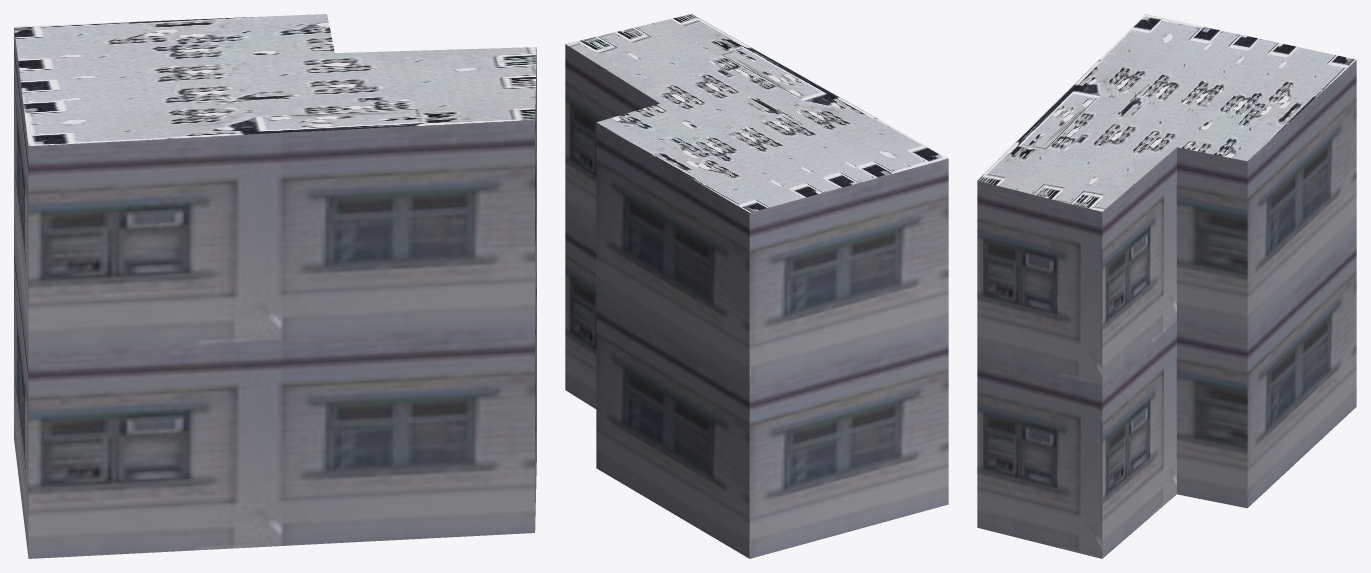
File: ResTex__2597.fbx
3 views of the same model, side by side, from view 1: azimuth 30°, elevation 25°; view 2: azimuth 150°, elevation 25°; view 3: azimuth 270°, elevation 25° (orthographic). The views are drawn at different scales.
Parts seen in each view (by area): view 1: CityEngineMaterial_1_m, CityEngineMaterial_m; view 2: CityEngineMaterial_1_m, CityEngineMaterial_m; view 3: CityEngineMaterial_1_m, CityEngineMaterial_m.
Boxes of the visible parts, x1=… form: CityEngineMaterial_1_m: x1=14, y1=27, x2=536, y2=558; CityEngineMaterial_m: x1=14, y1=14, x2=536, y2=145; CityEngineMaterial_1_m: x1=565, y1=44, x2=948, y2=558; CityEngineMaterial_m: x1=566, y1=14, x2=948, y2=212; CityEngineMaterial_1_m: x1=977, y1=60, x2=1356, y2=558; CityEngineMaterial_m: x1=977, y1=14, x2=1356, y2=211.
Size of the model in its own units: 7.34 by 6 by 5.95.
2 materials, 2 textured.
